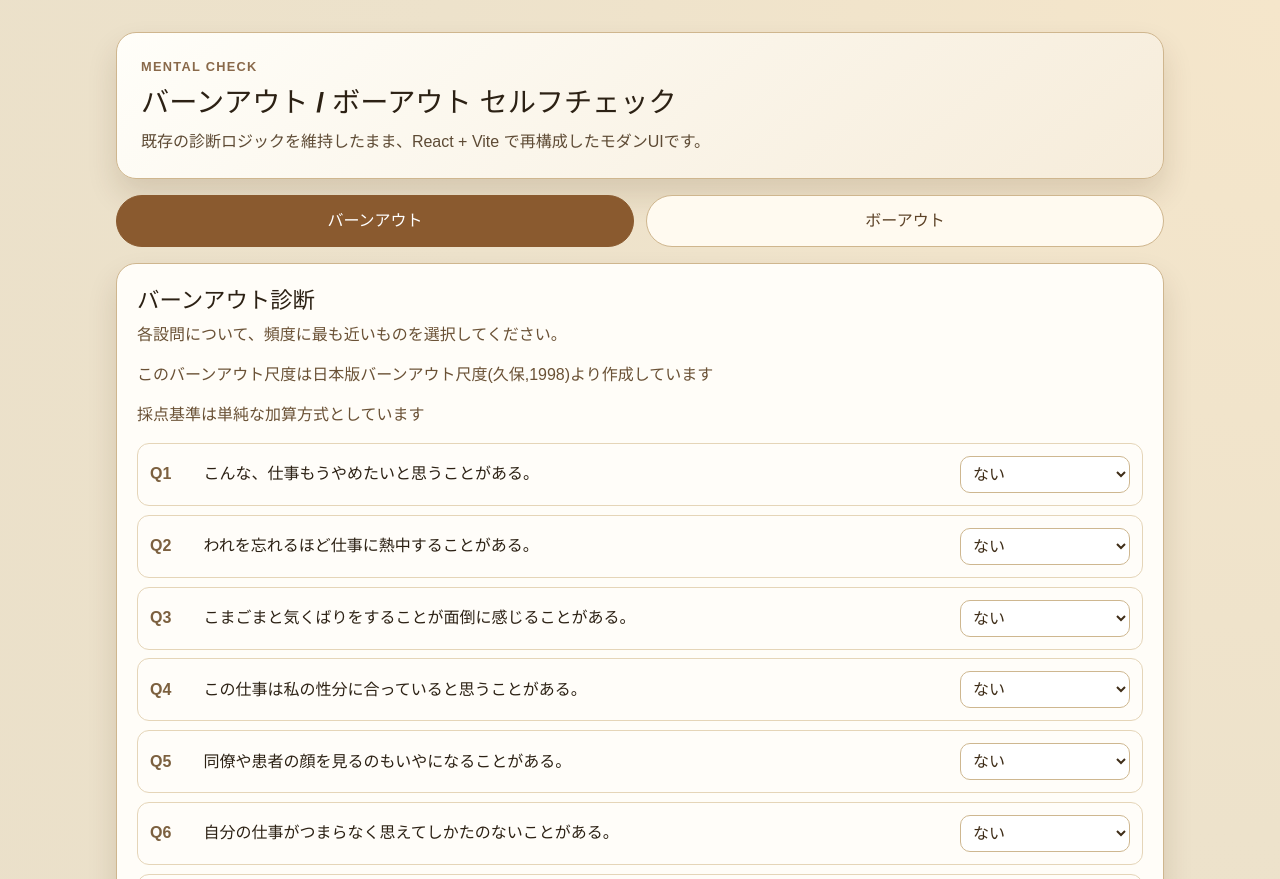
Test: App › stores boreout history and can delete boreout history
This screenshot has width=1280, height=879.
Step 1. Click the button "ボーアウト" → {"x": 905, "y": 221}, box 646,195 -> 1164,247
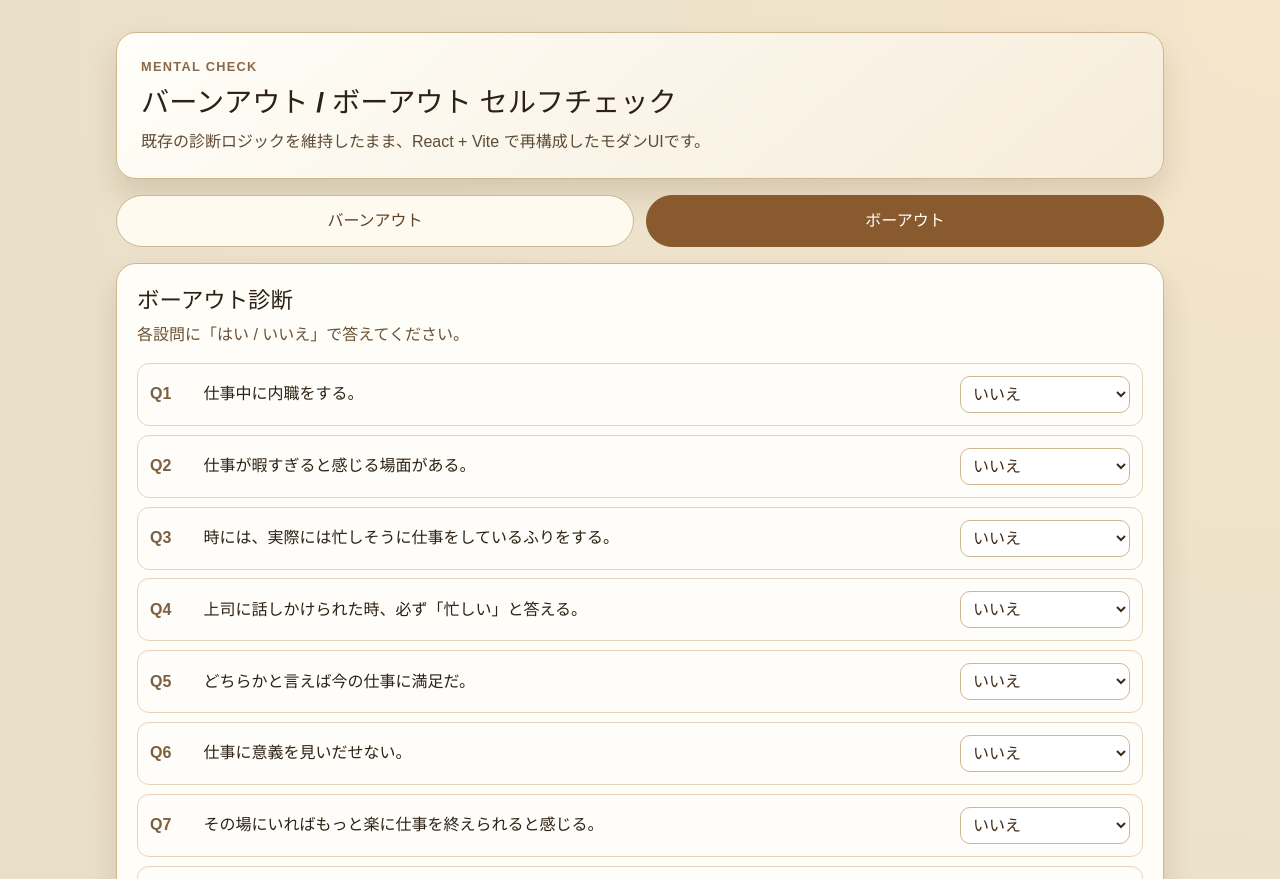
Step 2. Select "はい" in the dropdown labelled "Q1 仕事中に内職をする。" → {"x": 1045, "y": 394}, box 960,376 -> 1130,413
(page scrolled)
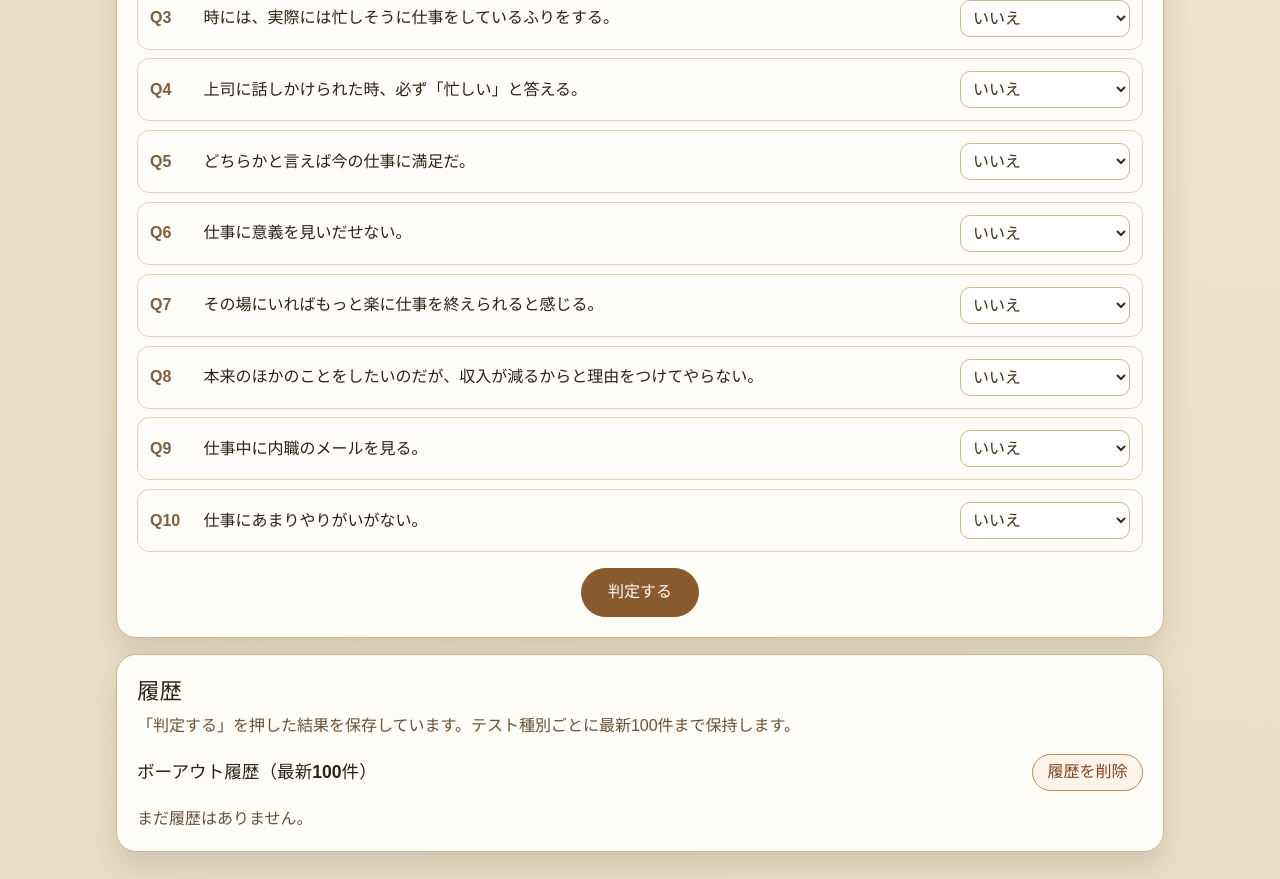
Step 3. Click the button "判定する" → {"x": 640, "y": 592}, box 581,568 -> 699,617
(page scrolled)
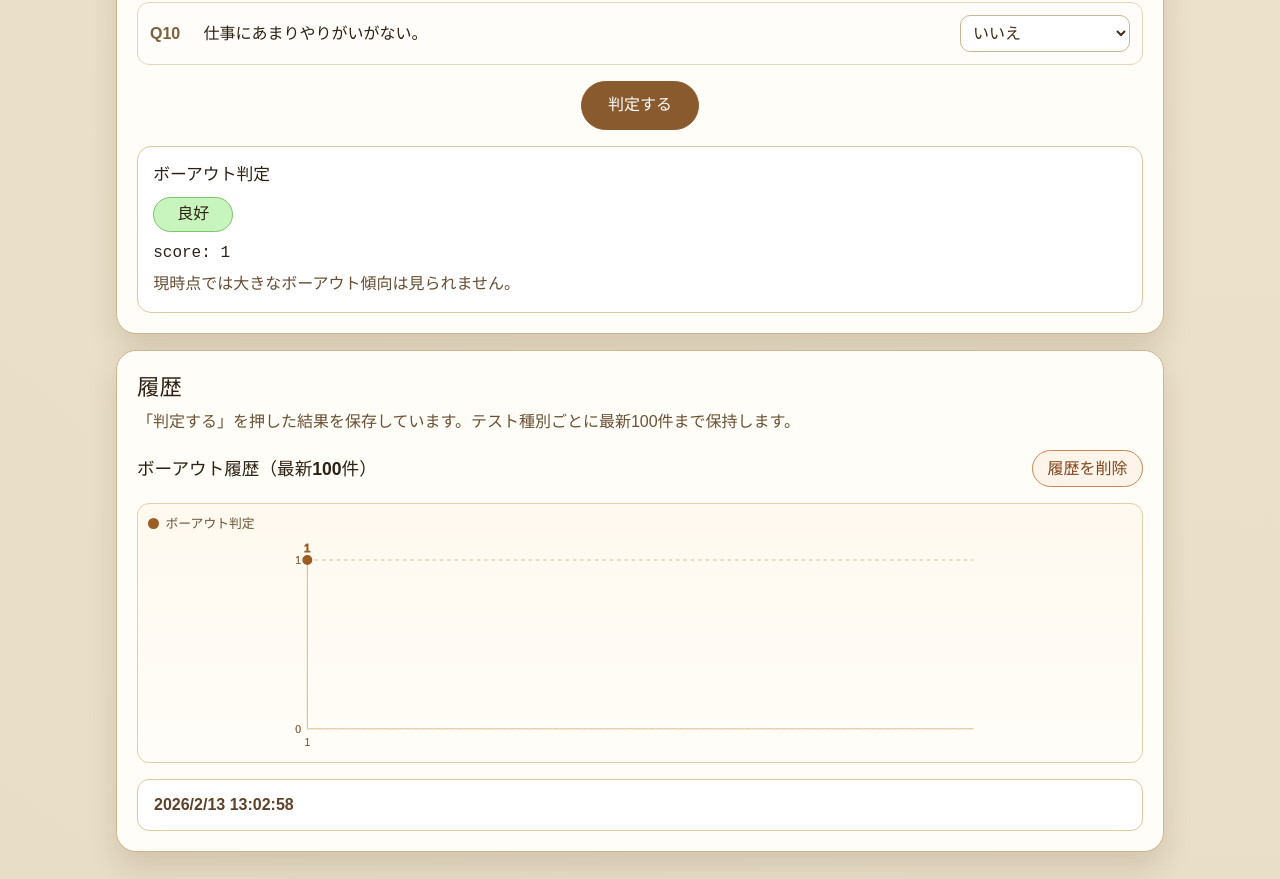
Check: the heading "ボーアウト履歴（最新100件）" is shown, box 137,456 -> 377,482
Check: the heading "ボーアウト判定" is shown, box 153,165 -> 270,184
Check: the number of list items with class "history-item" is 1, box 137,780 -> 1143,831
Step 4. Click the button "履歴を削除" → {"x": 1088, "y": 469}, box 1032,450 -> 1143,488
(page scrolled)
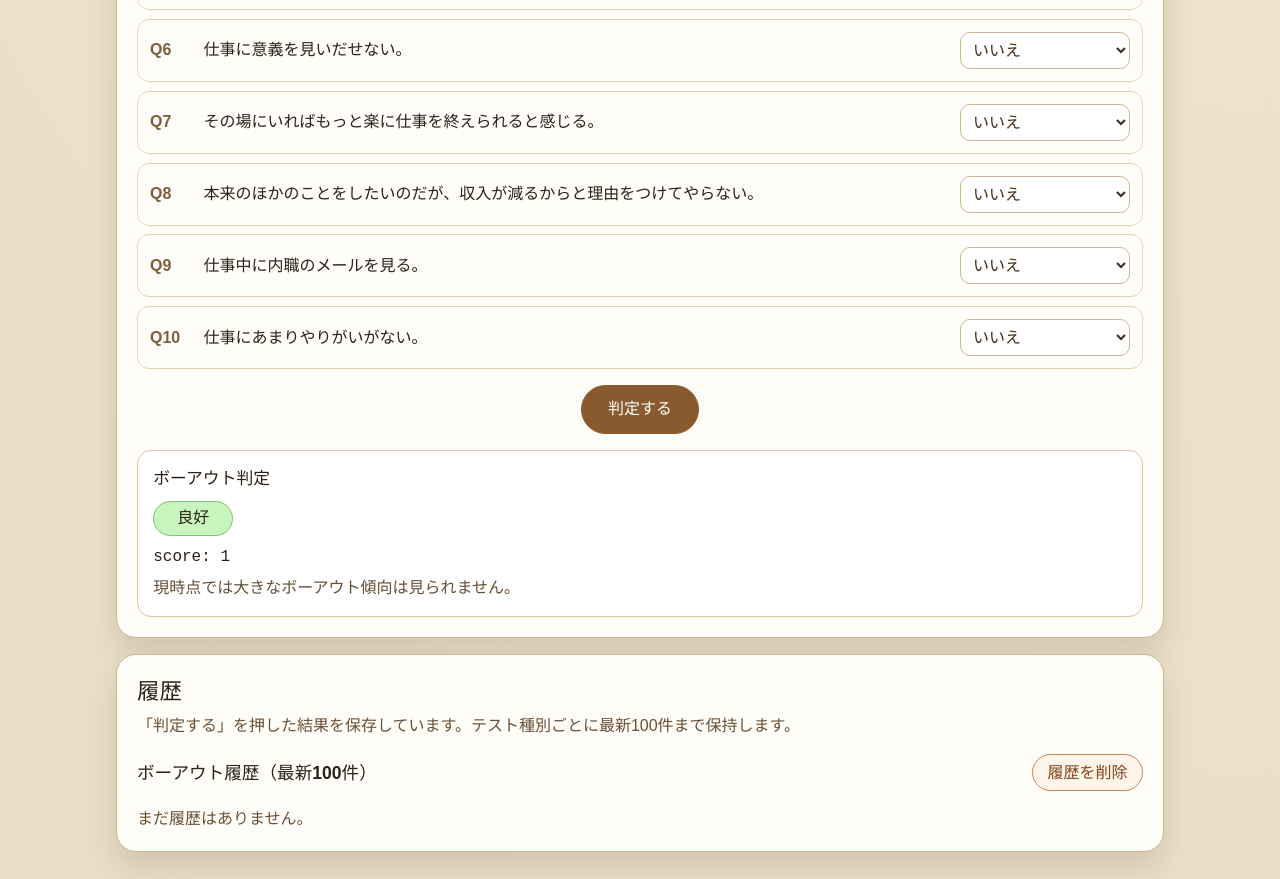
Check: no list items with class "history-item" are shown
Check: the text "まだ履歴はありません。" is shown, box 137,810 -> 312,828
